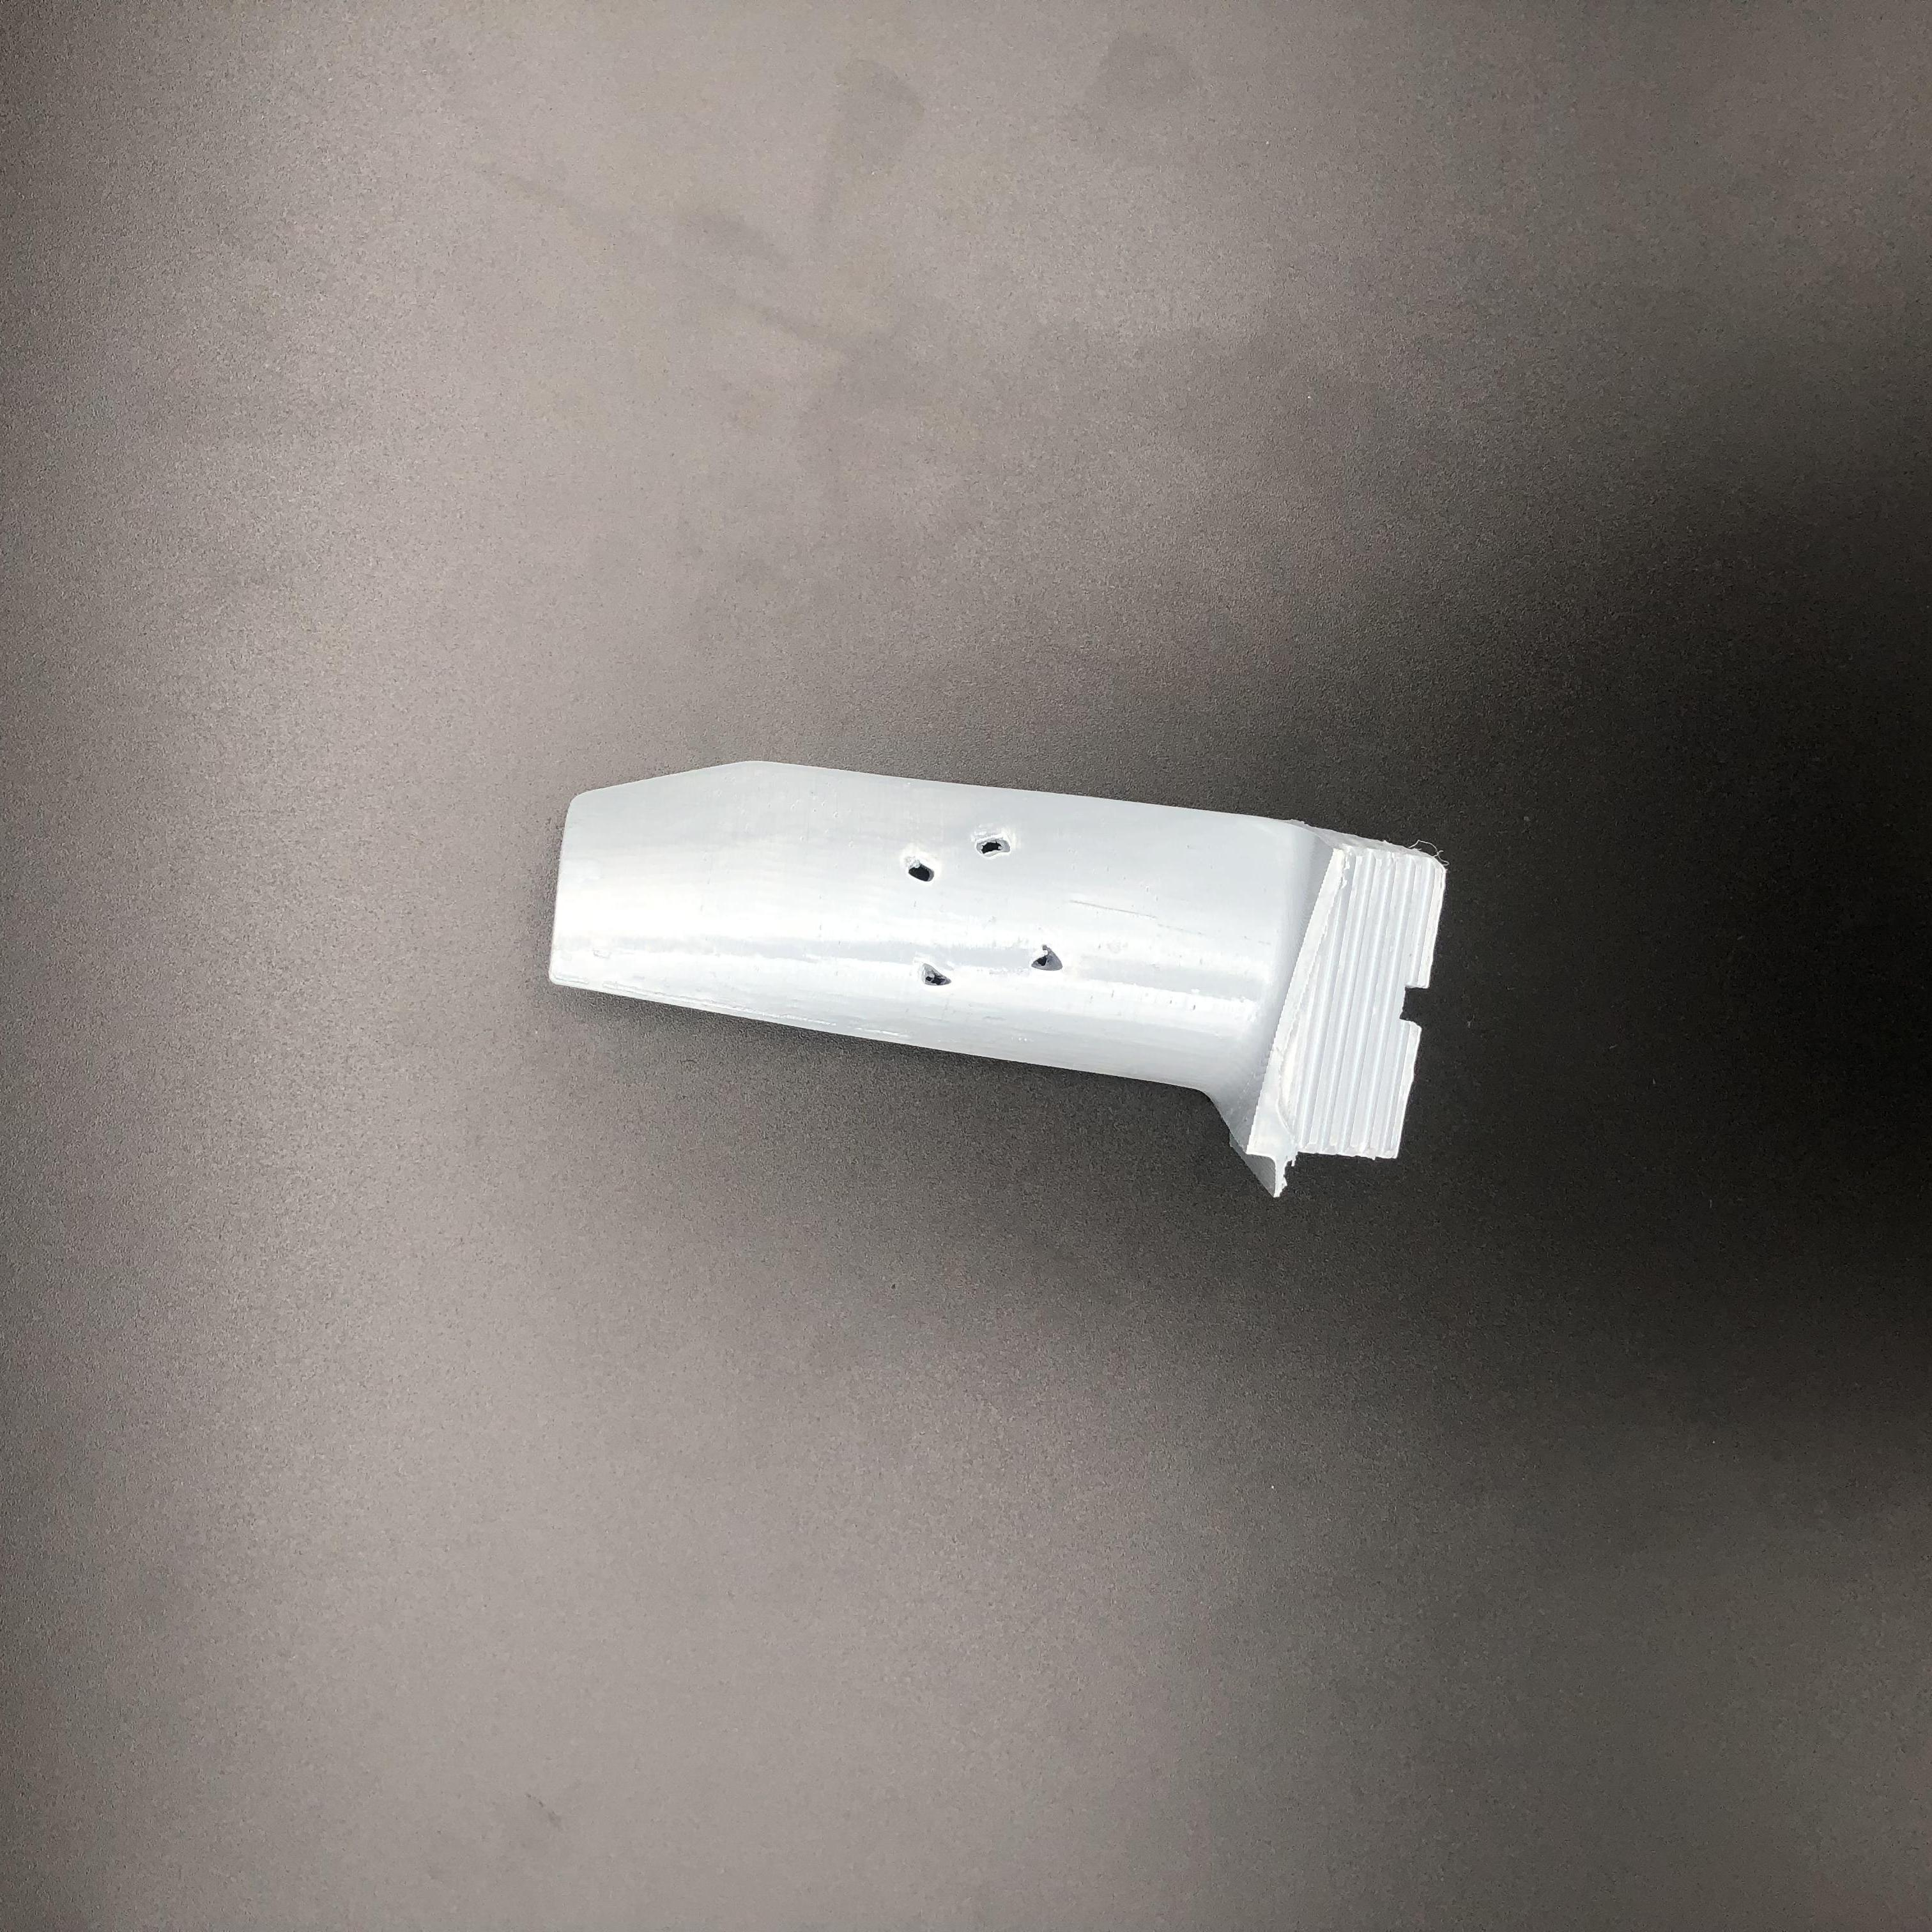breakdown: (911, 833, 1072, 1003)
